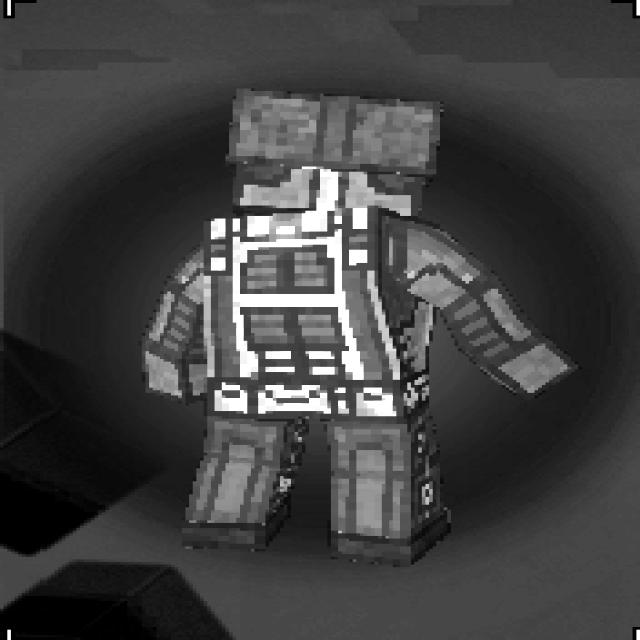Head: (230, 86, 445, 218)
Player: (138, 86, 578, 564)
